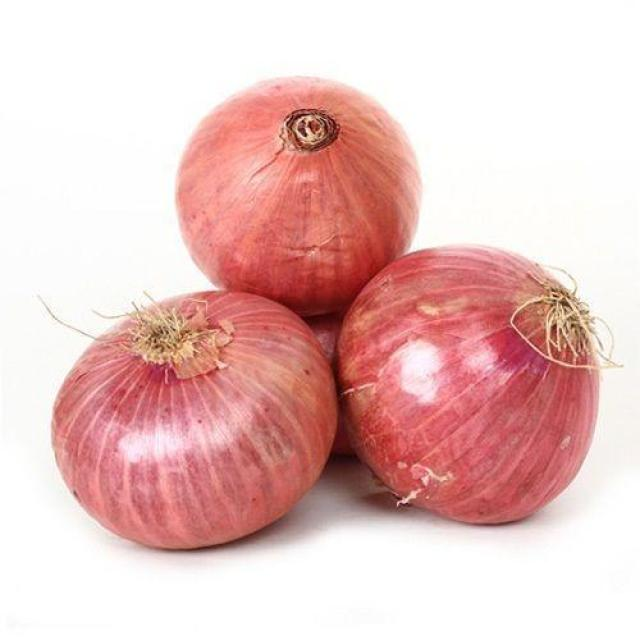Onion: (333, 244, 622, 528), (35, 287, 339, 550), (174, 74, 421, 316), (302, 314, 358, 456)
